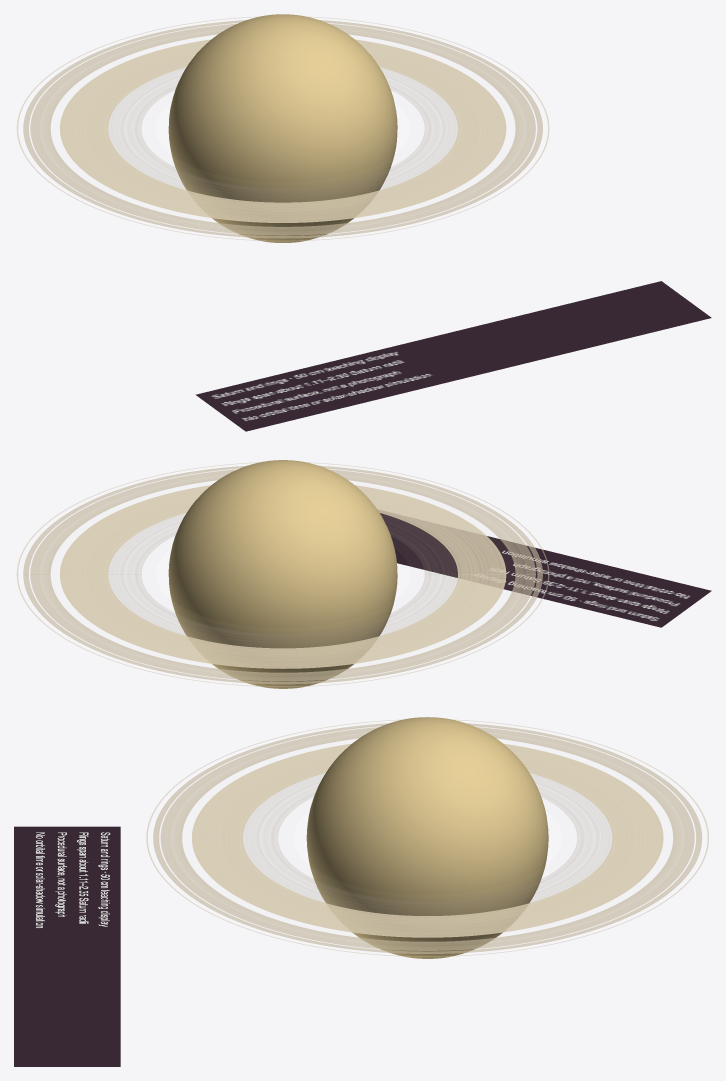
The model's file is space.glb.
3 views of the same model, one above another, from view 1: azimuth 30°, elevation 25°; view 2: azimuth 150°, elevation 25°; view 3: azimuth 270°, elevation 25° (orthographic). The views are drawn at different scales.
Visible parts, largest first — view 1: Saturn_rings, space_authored_teaching_model, Scale_and_credit; view 2: Saturn_rings, space_authored_teaching_model, Scale_and_credit; view 3: Saturn_rings, space_authored_teaching_model, Scale_and_credit.
Part boxes in pixels (x1,y1,x2,y2): Saturn_rings: (17, 16, 549, 241); space_authored_teaching_model: (168, 14, 397, 242); Scale_and_credit: (195, 281, 711, 431); Saturn_rings: (16, 462, 549, 686); space_authored_teaching_model: (168, 460, 397, 688); Scale_and_credit: (379, 511, 711, 627); Saturn_rings: (146, 719, 708, 956); space_authored_teaching_model: (306, 717, 548, 958); Scale_and_credit: (14, 826, 120, 1066).
Size of the model in its own units: 0.5 by 0.2128 by 0.6138.
Materials: 3 (2 with a texture image).
